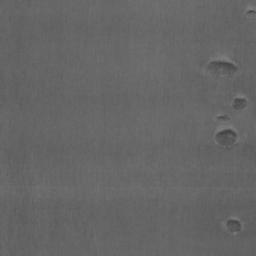Rolled pit: (207, 61, 237, 73), (216, 129, 236, 145), (233, 98, 246, 110), (227, 220, 240, 231)
